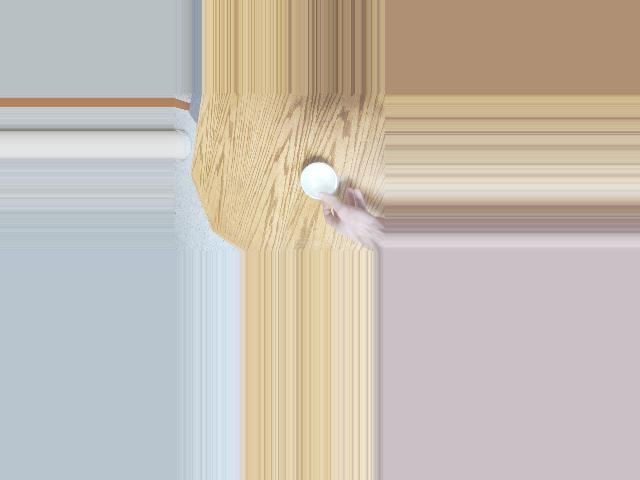cotage: (297, 162, 337, 200)
